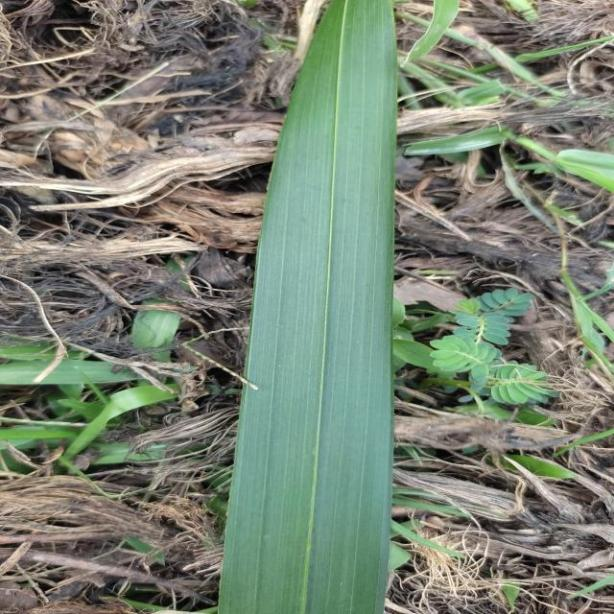Healthy: (226, 0, 398, 614)
